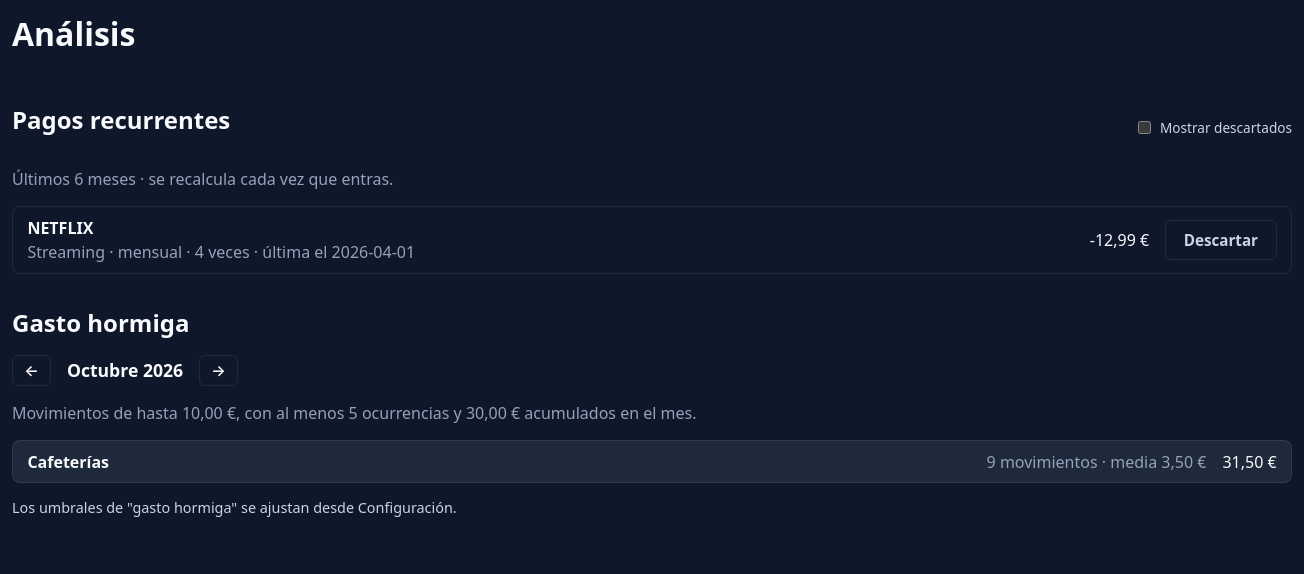
Scenario: InsightsPage › muestra los movimientos al hacer clic en una categoría de gasto hormiga
The width and height of the screenshot is (1304, 574).
Expected: the text "Cafeterías" is shown, x1=27 y1=451 x2=109 y2=473
Click the button "Cafeterías 9 movimientos · media 3,50 € 31,50 €".
click(68, 462)  # box x1=12 y1=440 x2=1292 y2=483
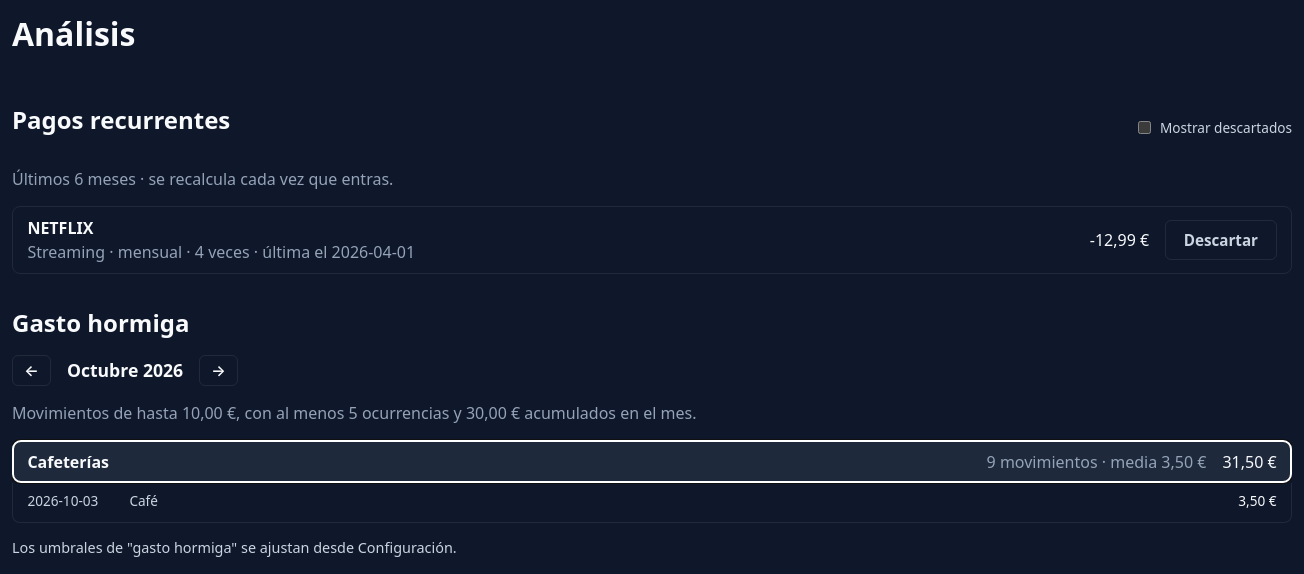
Now the text "Café" is shown, box x1=129 y1=491 x2=158 y2=510
